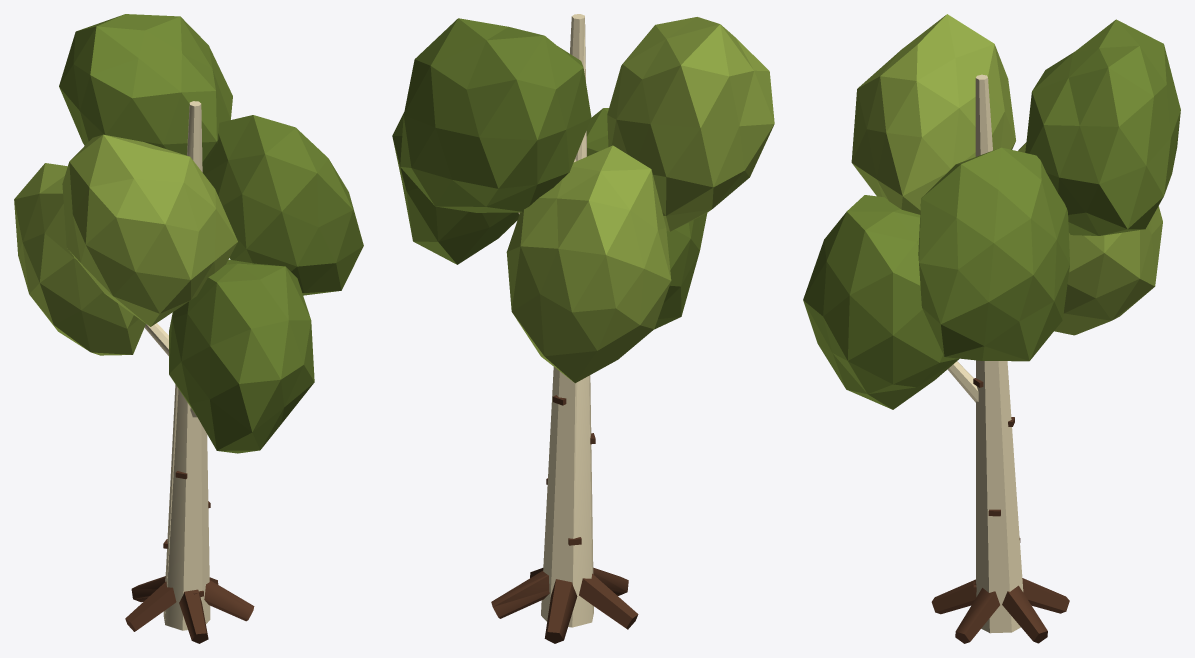
Rendered from 83_silver_birch.fbx.
The picture shows the model from 3 angles, left to right: view 1: azimuth 30°, elevation 25°; view 2: azimuth 150°, elevation 25°; view 3: azimuth 270°, elevation 25°; orthographic projection. The views are drawn at different scales.
Parts seen in each view (by area): view 1: 83_silver_birch; view 2: 83_silver_birch; view 3: 83_silver_birch.
Boxes of the visible parts, box(x1,y1,x2,y2) form: 83_silver_birch: box(14, 14, 363, 643); 83_silver_birch: box(392, 14, 774, 643); 83_silver_birch: box(803, 14, 1180, 643).
Size of the model in its own units: 2.21 by 4.09 by 2.38.
1 material, 1 textured.
